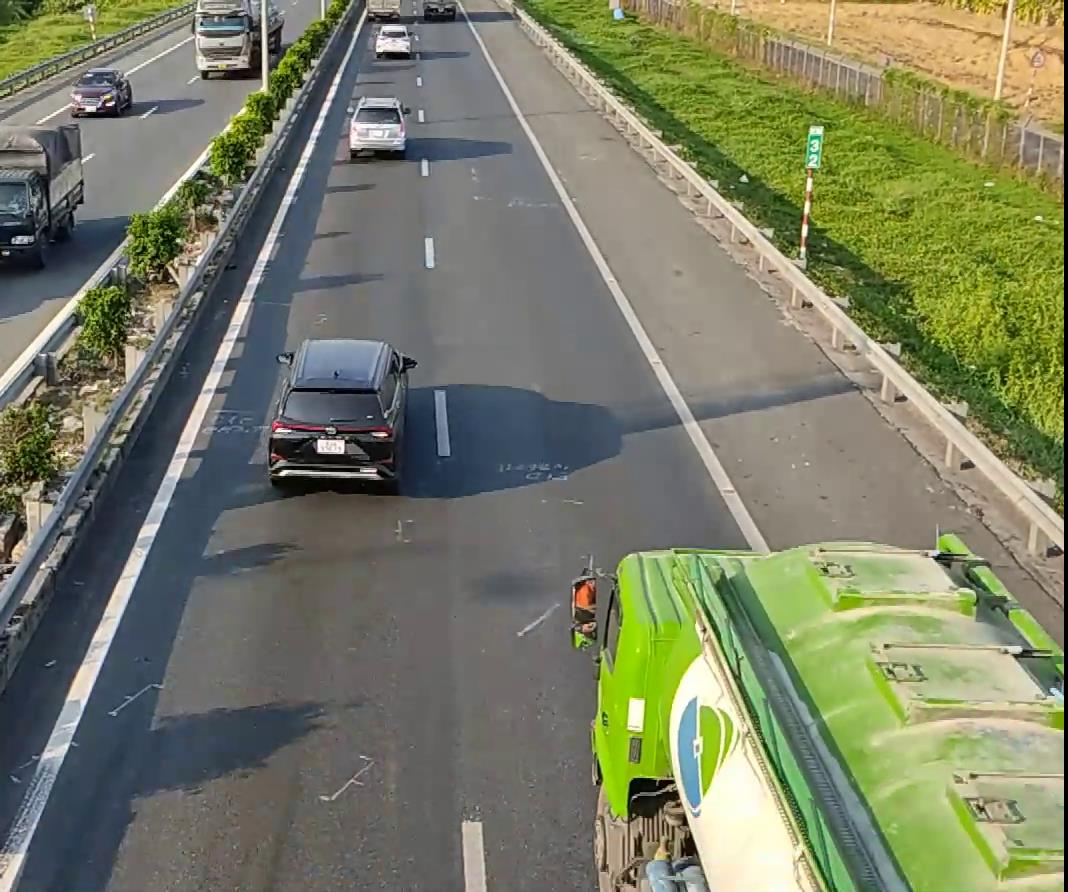car: (265, 337, 413, 489)
container: (572, 545, 1060, 885)
truck: (0, 116, 87, 269), (192, 0, 284, 78)
